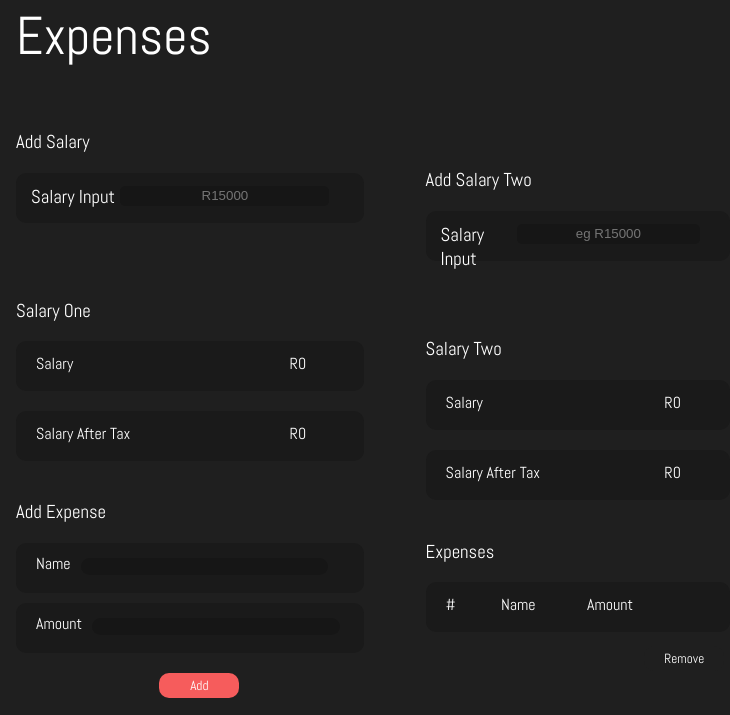
Test: Testing Page Three › Testing Salary Two After Tax
The image size is (730, 715).
Type "20000" into the field named "salaryTwo".
click(608, 234); type("20000")  # box [517, 224, 700, 244]
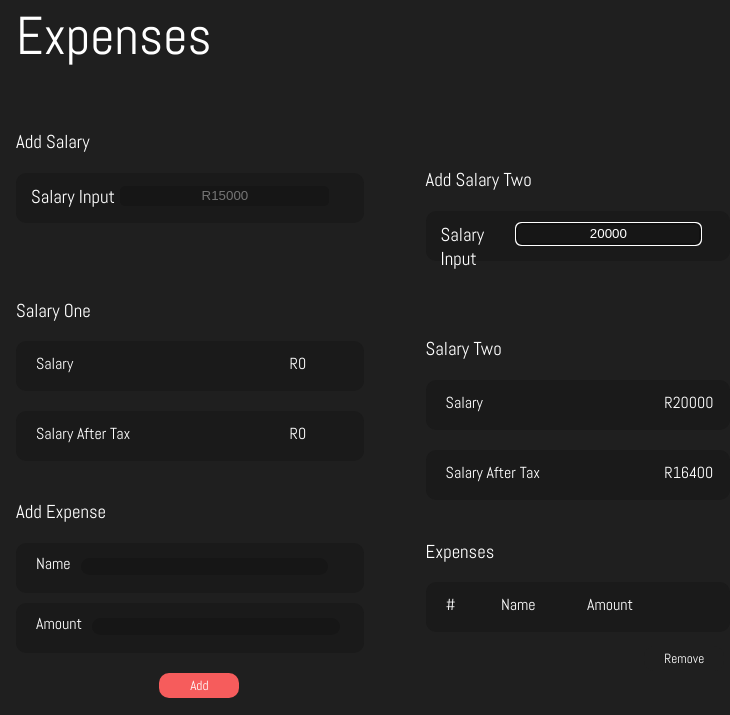
Expected: the text named "salary2AfterTax" reads "R16400", [664, 462, 713, 482]
